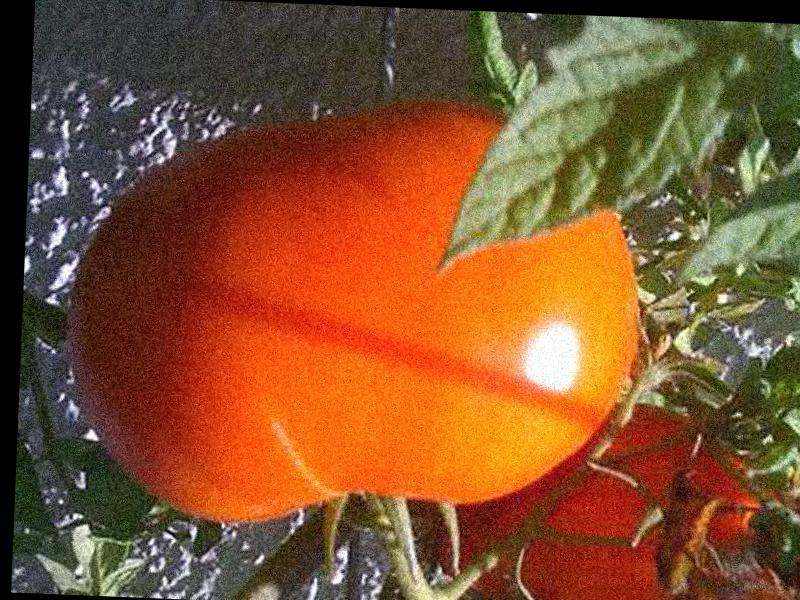Tomato: (62, 88, 648, 539)
